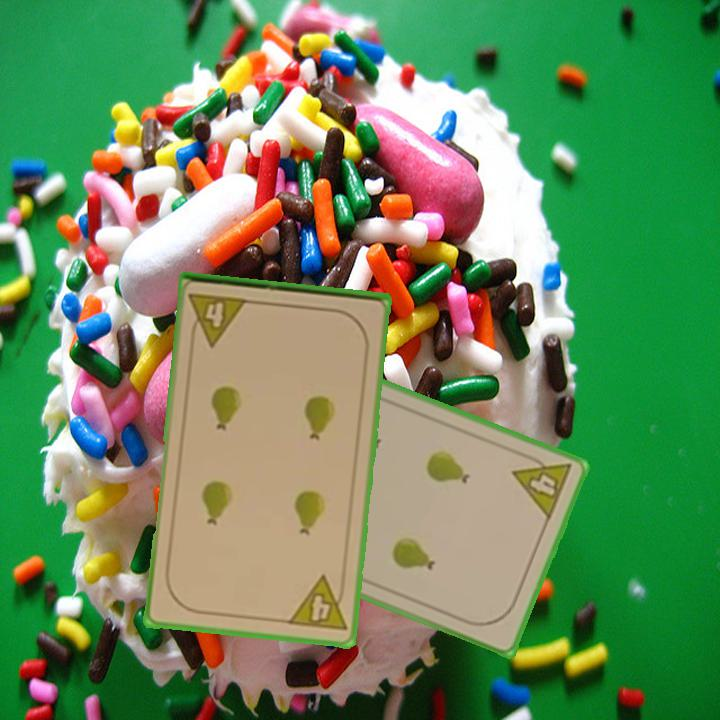4p: (509, 447, 575, 523), (284, 572, 349, 634), (185, 289, 251, 349)
